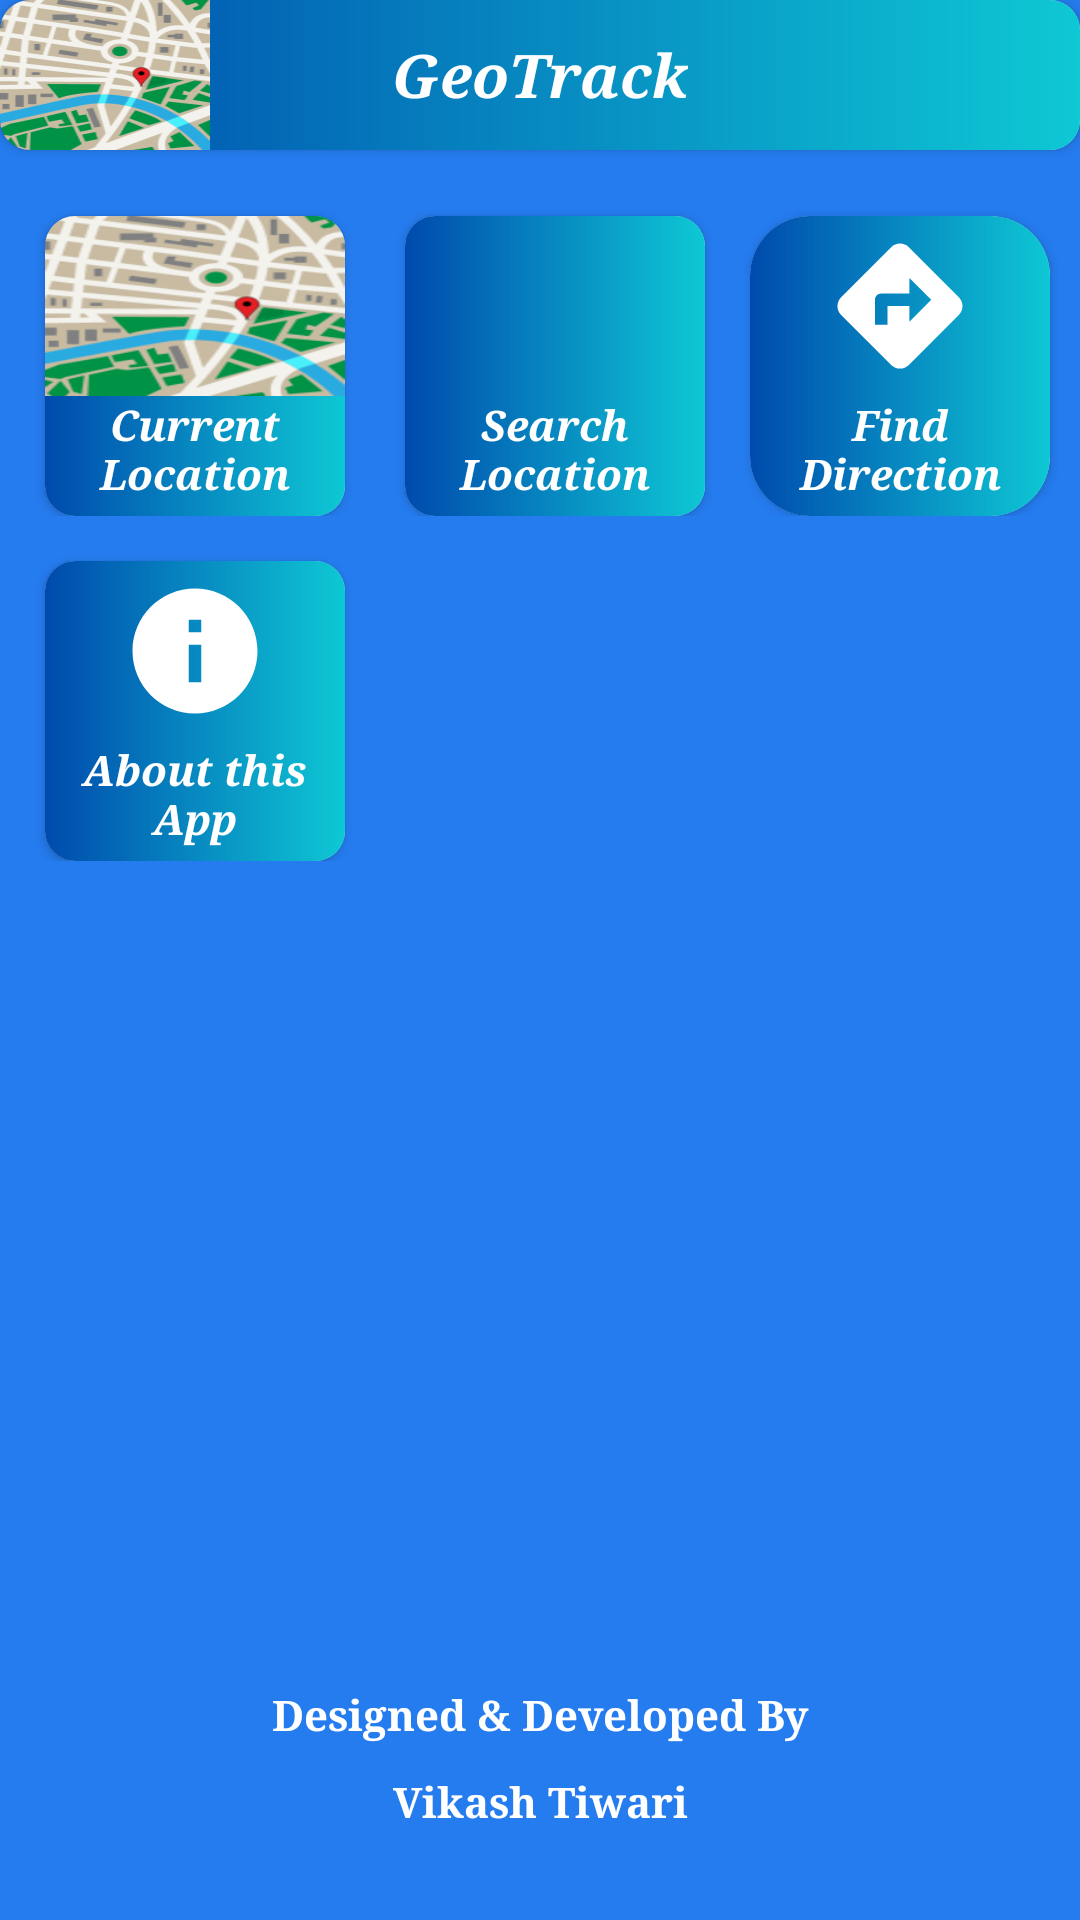

Screen size 1080*1920. Icon name, then its center in pixels as (x,y):
info: (195,651)
